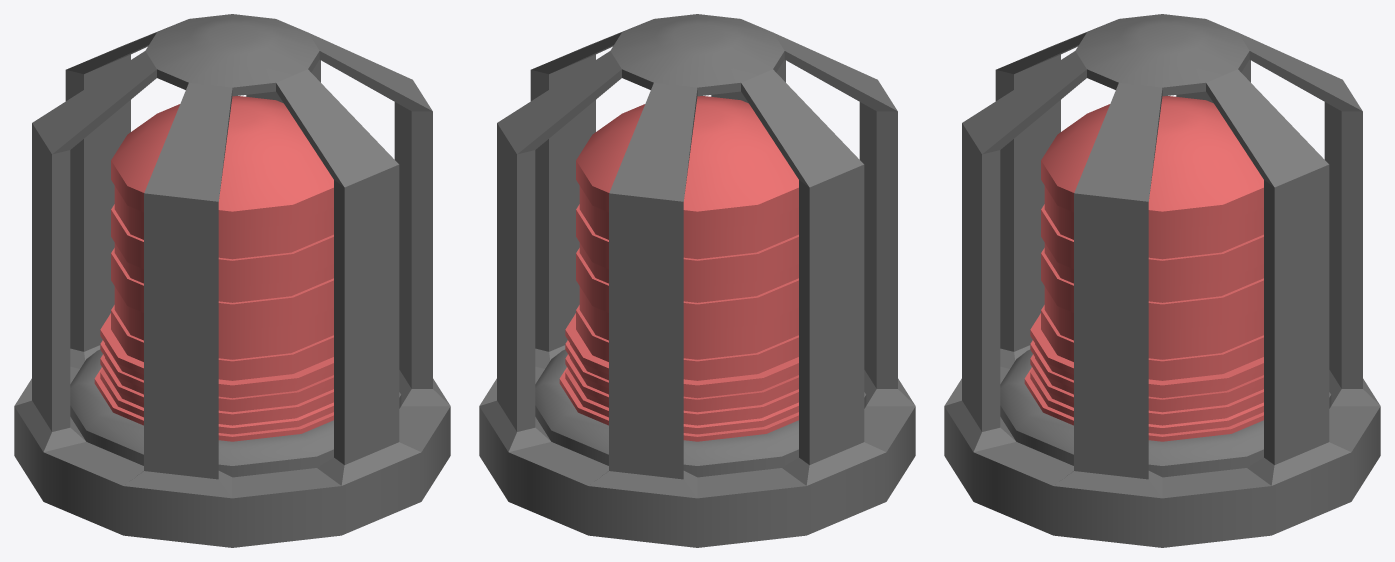
The model's file is SM_Alarme_Light.fbx.
3 views of the same model, side by side, from view 1: azimuth 30°, elevation 25°; view 2: azimuth 150°, elevation 25°; view 3: azimuth 270°, elevation 25° (orthographic).
Visible parts, largest first — view 1: polySurface1; view 2: polySurface1; view 3: polySurface1.
Part boxes in pixels (bbox=[...]): polySurface1: bbox=[14, 14, 450, 547]; polySurface1: bbox=[479, 14, 915, 547]; polySurface1: bbox=[944, 14, 1380, 547].
Size of the model in its own units: 76.46 by 81.39 by 76.46.
